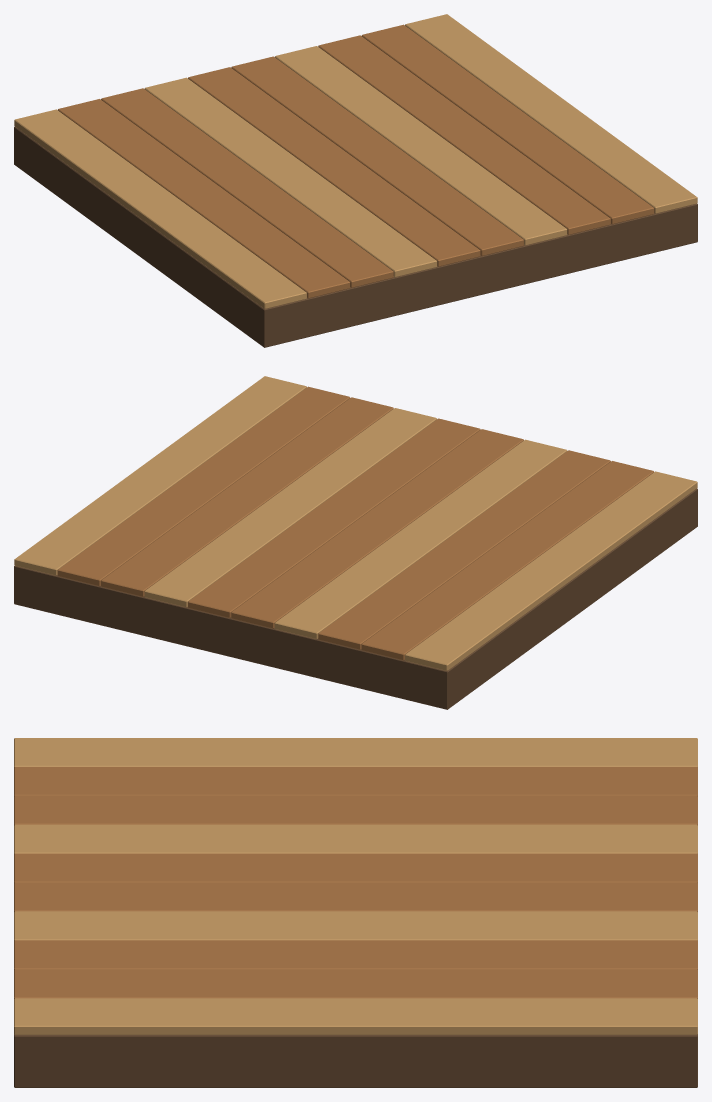
File: b21_floor_timber_2x2m.glb
3 views of the same model, one above another, from view 1: azimuth 30°, elevation 25°; view 2: azimuth 150°, elevation 25°; view 3: azimuth 270°, elevation 25° (orthographic). The views are drawn at different scales.
Parts seen in each view (by area): view 1: b21_floor_timber_2x2m; view 2: b21_floor_timber_2x2m; view 3: b21_floor_timber_2x2m.
Boxes of the visible parts, x1=… form: b21_floor_timber_2x2m: x1=14, y1=14, x2=697, y2=347; b21_floor_timber_2x2m: x1=14, y1=376, x2=697, y2=709; b21_floor_timber_2x2m: x1=14, y1=738, x2=697, y2=1087.
Size of the model in its own units: 2 by 0.2 by 2.
